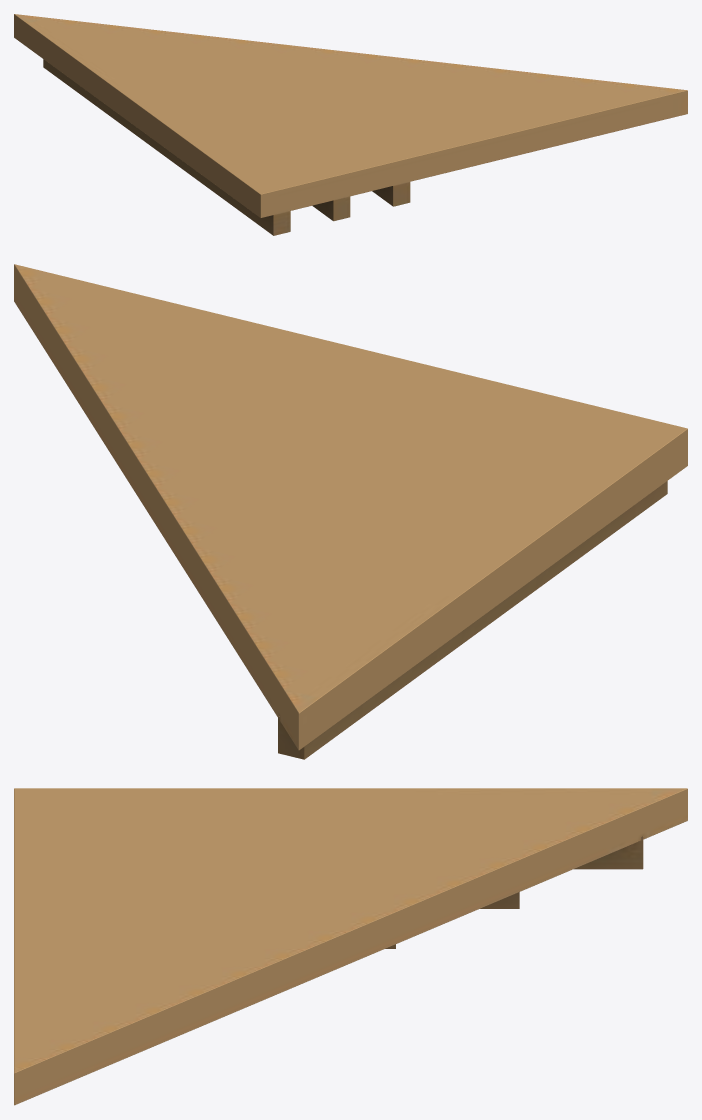
File: BD_floor_tri.glb
3 views of the same model, one above another, from view 1: azimuth 30°, elevation 25°; view 2: azimuth 150°, elevation 25°; view 3: azimuth 270°, elevation 25° (orthographic). The views are drawn at different scales.
Parts seen in each view (by area): view 1: BD_floor_tri; view 2: BD_floor_tri; view 3: BD_floor_tri.
Part boxes in pixels (x1,y1,x2,y2): BD_floor_tri: [14, 14, 687, 235]; BD_floor_tri: [14, 264, 687, 759]; BD_floor_tri: [14, 788, 687, 1105].
Size of the model in its own units: 3 by 0.3 by 3.
1 material, 1 textured.
